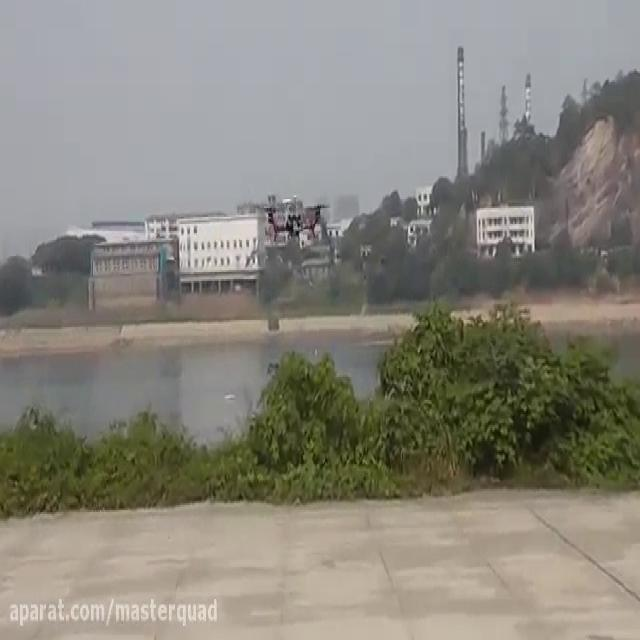drone: (261, 190, 331, 244)
